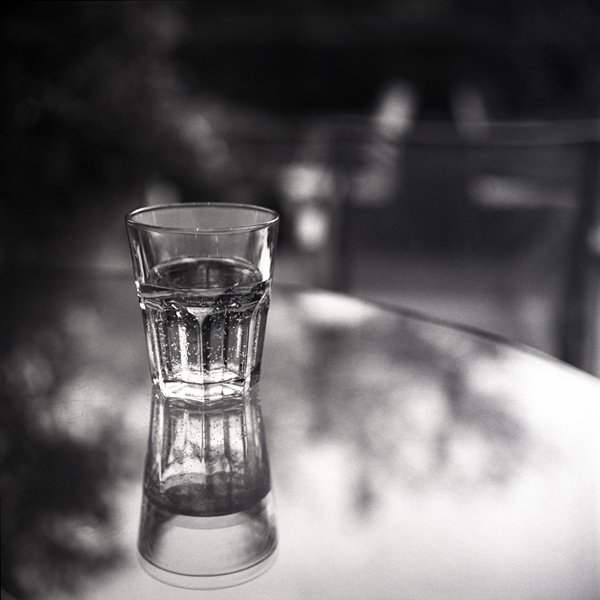glass of water: (122, 193, 289, 423)
